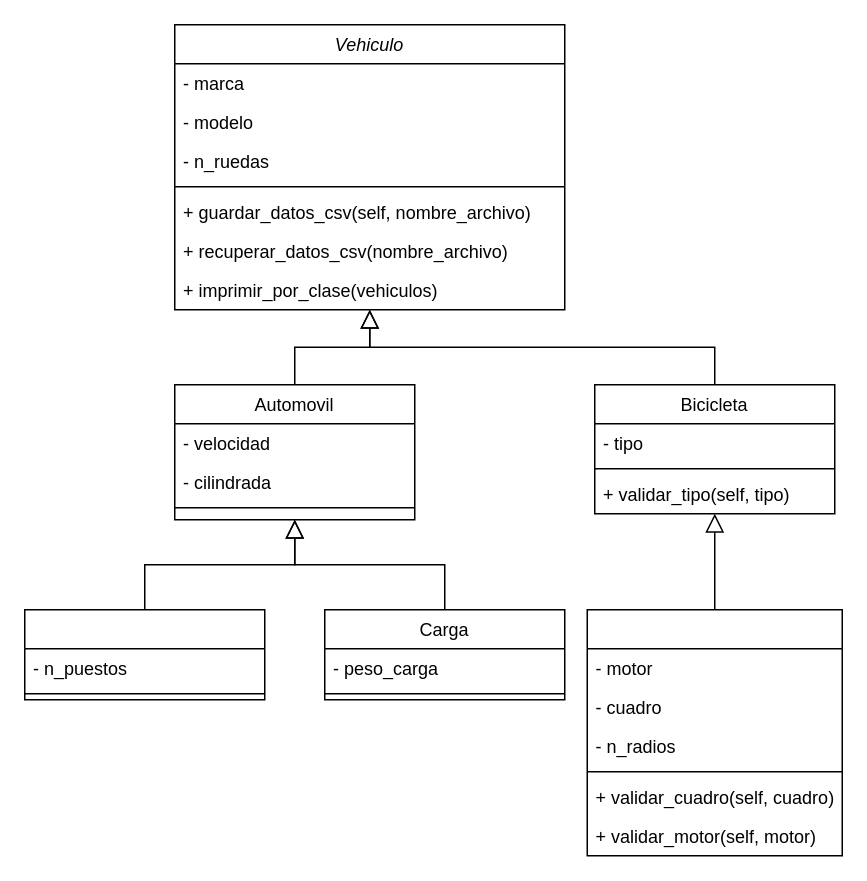
Image size: 867x881. Some labels were removed from this diagram. Here are the shapes that lost their labels. From the top down, the box of each, then its label:
(23, 608, 265, 700): Particular
(586, 608, 842, 856): Motocicleta
